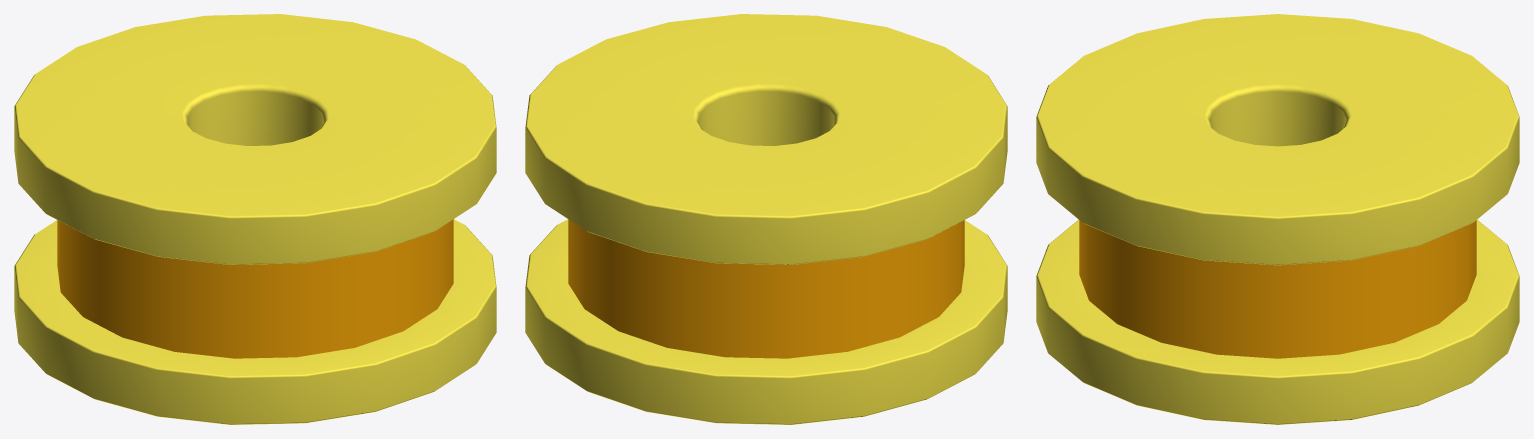
Rendered from Public_19_Skein_of_thread_10.glb.
3 views of the same model, side by side, from view 1: azimuth 30°, elevation 25°; view 2: azimuth 150°, elevation 25°; view 3: azimuth 270°, elevation 25° (orthographic).
Parts seen in each view (by area): view 1: Public_19_Skein_of_thread_10; view 2: Public_19_Skein_of_thread_10; view 3: Public_19_Skein_of_thread_10.
Boxes of the visible parts, x1,y1,x2,y2 form: Public_19_Skein_of_thread_10: [14, 14, 496, 424]; Public_19_Skein_of_thread_10: [525, 14, 1007, 424]; Public_19_Skein_of_thread_10: [1036, 14, 1519, 424].
Size of the model in its own units: 0.4596 by 0.2187 by 0.4596.
1 material, 1 textured.
